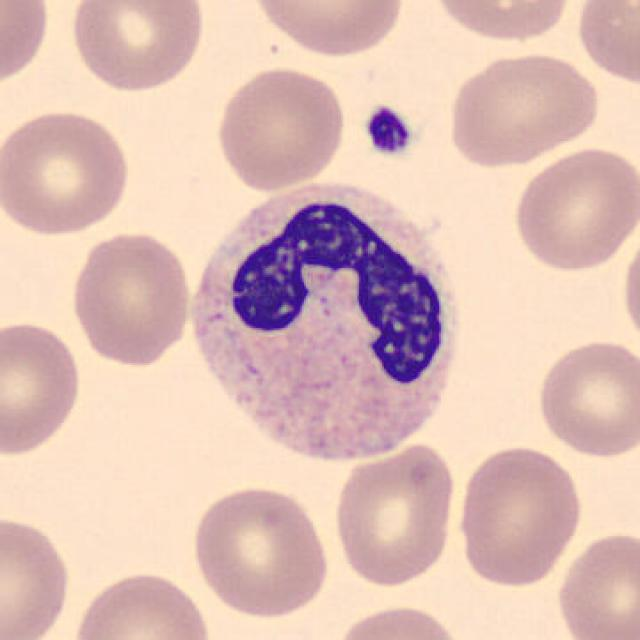Neutrophil: (180, 171, 471, 481)
Platelets: (361, 102, 416, 160)
RBC: (187, 482, 334, 622), (453, 440, 587, 590), (442, 48, 604, 169), (331, 439, 458, 591), (66, 228, 196, 368), (0, 104, 135, 238), (212, 63, 348, 194), (508, 143, 638, 275), (66, 0, 208, 95), (532, 335, 638, 460), (0, 317, 85, 458), (67, 566, 217, 640), (247, 0, 409, 60), (0, 509, 74, 640), (553, 527, 638, 640), (427, 0, 576, 44), (572, 0, 638, 90), (330, 601, 468, 640), (0, 0, 53, 91), (618, 223, 640, 354)
